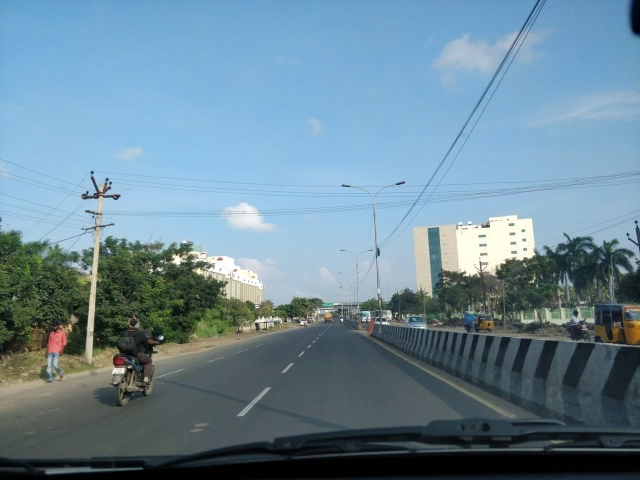auto: (590, 301, 639, 351), (469, 312, 497, 333)
car: (402, 314, 431, 334), (373, 316, 390, 329)
motorbike: (104, 312, 167, 414), (561, 309, 591, 343)
person: (43, 319, 70, 383)
truck: (321, 312, 334, 324)
